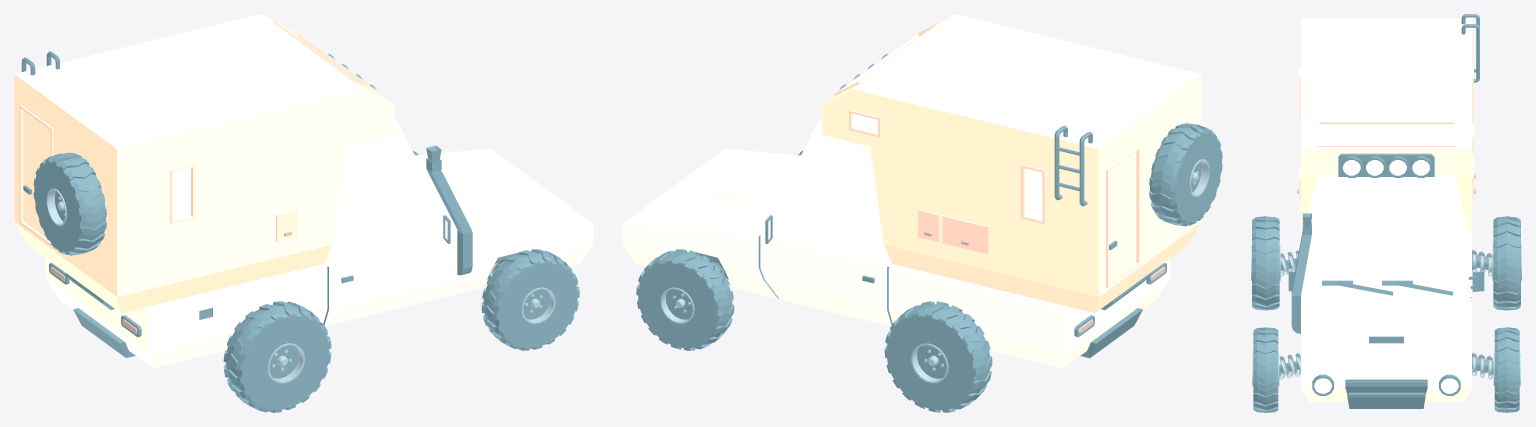
File: Jeep_done.gltf
3 views of the same model, side by side, from view 1: azimuth 30°, elevation 25°; view 2: azimuth 150°, elevation 25°; view 3: azimuth 270°, elevation 25° (orthographic). The views are drawn at different scales.
Parts seen in each view (by area): view 1: Frame, Rear_wheel.001, Front_wheel.001; view 2: Frame, Rear_wheel, Front_wheel; view 3: Frame, Rear_wheel.001, Rear_wheel, Front_wheel.001, Front_wheel, Spring, Spring.002, Spring.001, Spring.003.
Boxes of the visible parts, x1=… form: Frame: x1=14, y1=14, x2=593, y2=368; Rear_wheel.001: x1=223, y1=301, x2=331, y2=412; Front_wheel.001: x1=481, y1=249, x2=579, y2=350; Frame: x1=622, y1=14, x2=1222, y2=368; Rear_wheel: x1=884, y1=301, x2=992, y2=412; Front_wheel: x1=636, y1=249, x2=734, y2=350; Frame: x1=1288, y1=14, x2=1484, y2=408; Rear_wheel.001: x1=1251, y1=216, x2=1280, y2=310; Rear_wheel: x1=1492, y1=216, x2=1521, y2=310; Front_wheel.001: x1=1252, y1=327, x2=1279, y2=412; Front_wheel: x1=1493, y1=327, x2=1520, y2=412; Spring: x1=1472, y1=352, x2=1493, y2=379; Spring.002: x1=1279, y1=353, x2=1300, y2=379; Spring.001: x1=1472, y1=250, x2=1492, y2=276; Spring.003: x1=1280, y1=250, x2=1298, y2=276.
Size of what is drawn, in the model's own units: 575 by 310 by 316.
